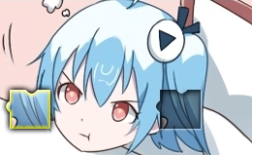gap: (157, 90, 201, 130)
